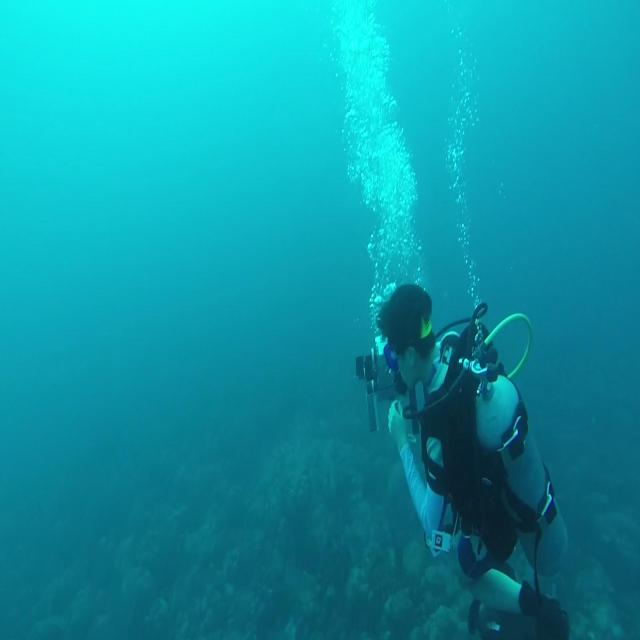human: (375, 282, 570, 638)
